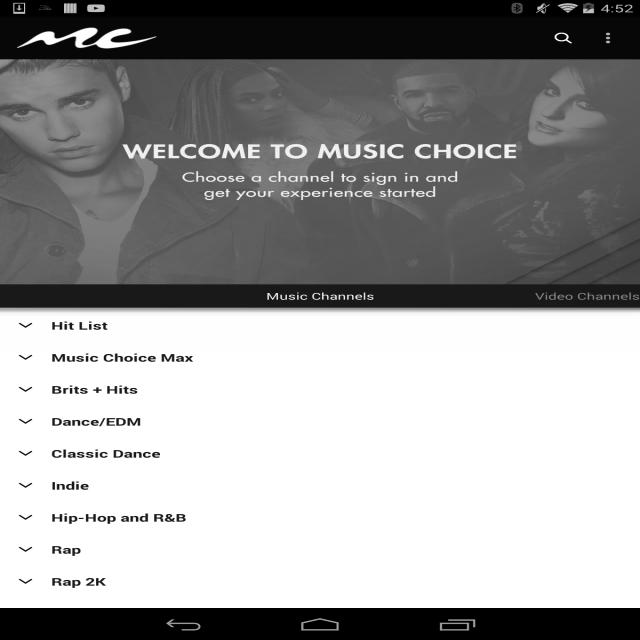ImageView: (0, 59, 640, 284), (17, 17, 156, 59), (589, 22, 631, 54)
TextView: (51, 350, 193, 365), (51, 510, 187, 525), (51, 606, 187, 621), (51, 446, 161, 461), (538, 22, 588, 54), (52, 414, 142, 429), (266, 290, 375, 302), (51, 382, 138, 397), (535, 290, 640, 302), (51, 318, 108, 333), (51, 574, 106, 589), (51, 478, 89, 493), (51, 542, 81, 557)
